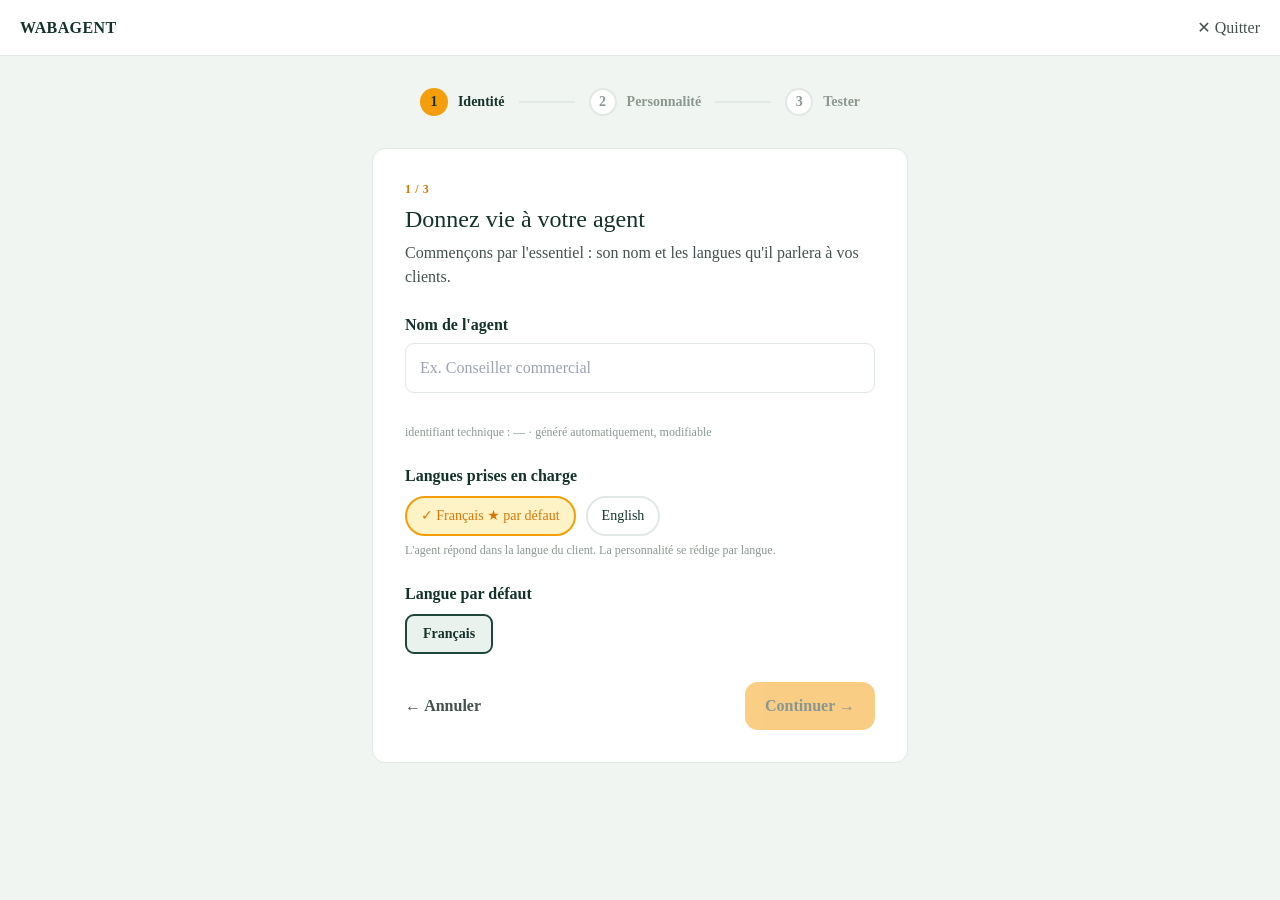
Test: le nom genere le slug automatiquement
The image size is (1280, 900).
Type "Assistant Boutique" into the field labelled "Nom de l'agent" at [640, 368], box [405,343,875,393]
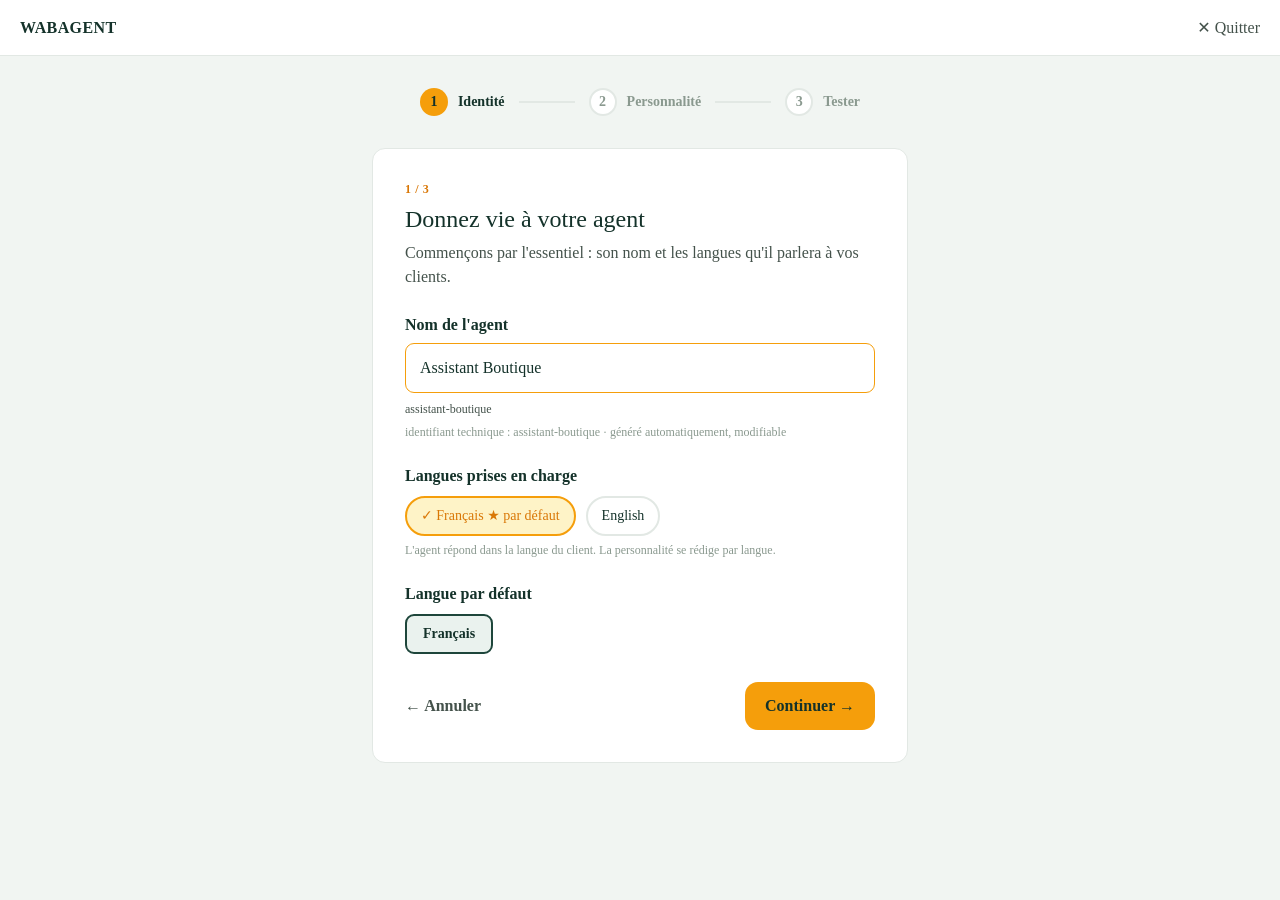
Expected: the text "assistant-boutique" is shown, [405,425,786,439]
